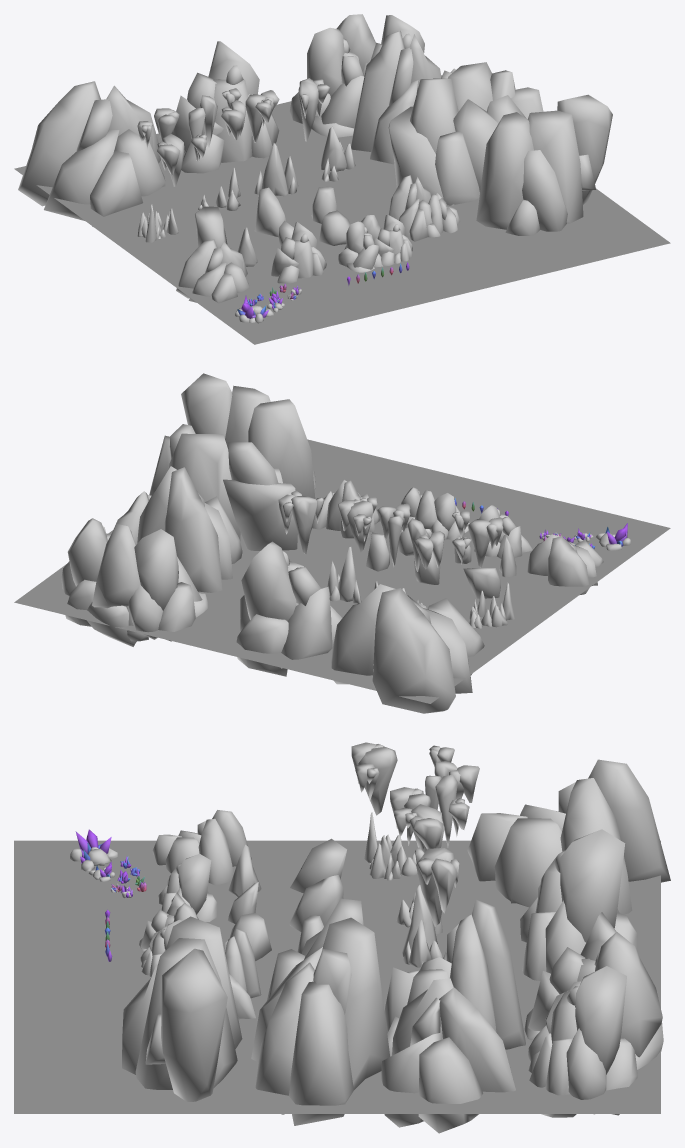
The model's file is Caves_Pieces_1A3_LOD2.fbx.
3 renders of one model, top to bottom at view 1: azimuth 30°, elevation 25°; view 2: azimuth 150°, elevation 25°; view 3: azimuth 270°, elevation 25°, orthographic. The views are drawn at different scales.
Visible parts, largest first — view 1: Stone_Plane_3A.001, Cave_Large_Wall_2A2.002, Cave_Large_Cluster_2A4.002, Cave_Large_Wall_2A1.002, Cave_Large_Cluster_2A2.002, Cave_Large_Cluster_2A3.002, Cave_Large_Cluster_2A1.002, Cave_Small_Cluster_2A4.002, Cave_Small_Cluster_2A2.002, Cave_Small_Cluster_2A1.002, Stalactites_2A3.002, Cave_Small_Cluster_2A3.002 (+12 smaller); view 2: Stone_Plane_3A.001, Cave_Large_Cluster_2A4.002, Cave_Large_Cluster_2A2.002, Cave_Large_Wall_2A1.002, Cave_Large_Cluster_2A3.002, Cave_Large_Wall_2A2.002, Cave_Large_Cluster_2A1.002, Cave_Small_Cluster_2A4.002, Stalactites_2A3.002, Cave_Small_Cluster_2A2.002, Stalactites_2A4.002, Cave_Small_Cluster_2A1.002 (+9 smaller); view 3: Stone_Plane_3A.001, Cave_Large_Cluster_2A1.002, Cave_Large_Wall_2A1.002, Cave_Large_Cluster_2A2.002, Cave_Large_Wall_2A2.002, Cave_Large_Cluster_2A4.002, Cave_Large_Cluster_2A3.002, Cave_Small_Cluster_2A4.002, Stalactites_2A3.002, Cave_Small_Cluster_2A3.002, Stalactites_2A4.002, Cave_Small_Cluster_2A1.002 (+11 smaller).
Boxes of the visible parts, x1=… form: Stone_Plane_3A.001: x1=14, y1=75, x2=670, y2=344; Cave_Large_Wall_2A2.002: x1=476, y1=94, x2=612, y2=235; Cave_Large_Cluster_2A4.002: x1=18, y1=81, x2=165, y2=226; Cave_Large_Wall_2A1.002: x1=388, y1=62, x2=543, y2=205; Cave_Large_Cluster_2A2.002: x1=290, y1=14, x2=424, y2=137; Cave_Large_Cluster_2A3.002: x1=173, y1=41, x2=279, y2=173; Cave_Large_Cluster_2A1.002: x1=351, y1=30, x2=455, y2=164; Cave_Small_Cluster_2A4.002: x1=176, y1=239, x2=249, y2=303; Cave_Small_Cluster_2A2.002: x1=338, y1=215, x2=412, y2=272; Cave_Small_Cluster_2A1.002: x1=388, y1=175, x2=460, y2=241; Stalactites_2A3.002: x1=199, y1=88, x2=279, y2=147; Cave_Small_Cluster_2A3.002: x1=271, y1=222, x2=326, y2=283; Stone_Plane_3A.001: x1=14, y1=439, x2=670, y2=703; Cave_Large_Cluster_2A4.002: x1=331, y1=584, x2=484, y2=713; Cave_Large_Cluster_2A2.002: x1=61, y1=518, x2=208, y2=646; Cave_Large_Wall_2A1.002: x1=149, y1=424, x2=297, y2=550; Cave_Large_Cluster_2A3.002: x1=236, y1=541, x2=342, y2=676; Cave_Large_Wall_2A2.002: x1=181, y1=373, x2=315, y2=498; Cave_Large_Cluster_2A1.002: x1=113, y1=466, x2=242, y2=592; Cave_Small_Cluster_2A4.002: x1=527, y1=534, x2=603, y2=595; Stalactites_2A3.002: x1=338, y1=497, x2=410, y2=566; Cave_Small_Cluster_2A2.002: x1=401, y1=487, x2=469, y2=539; Stalactites_2A4.002: x1=278, y1=490, x2=324, y2=553; Cave_Small_Cluster_2A1.002: x1=312, y1=480, x2=379, y2=538; Stone_Plane_3A.001: x1=14, y1=840, x2=660, y2=1113; Cave_Large_Cluster_2A1.002: x1=381, y1=899, x2=525, y2=1133; Cave_Large_Wall_2A1.002: x1=251, y1=898, x2=390, y2=1125; Cave_Large_Cluster_2A2.002: x1=524, y1=912, x2=663, y2=1117; Cave_Large_Wall_2A2.002: x1=122, y1=916, x2=242, y2=1101; Cave_Large_Cluster_2A4.002: x1=467, y1=759, x2=670, y2=914; Cave_Large_Cluster_2A3.002: x1=520, y1=829, x2=637, y2=980; Cave_Small_Cluster_2A4.002: x1=152, y1=810, x2=251, y2=885; Stalactites_2A3.002: x1=390, y1=774, x2=469, y2=852; Cave_Small_Cluster_2A3.002: x1=158, y1=853, x2=217, y2=921; Stalactites_2A4.002: x1=415, y1=847, x2=459, y2=926; Cave_Small_Cluster_2A1.002: x1=223, y1=929, x2=261, y2=1019.
Bounding box in the file's own units: 7961 × 2441 × 7775.
